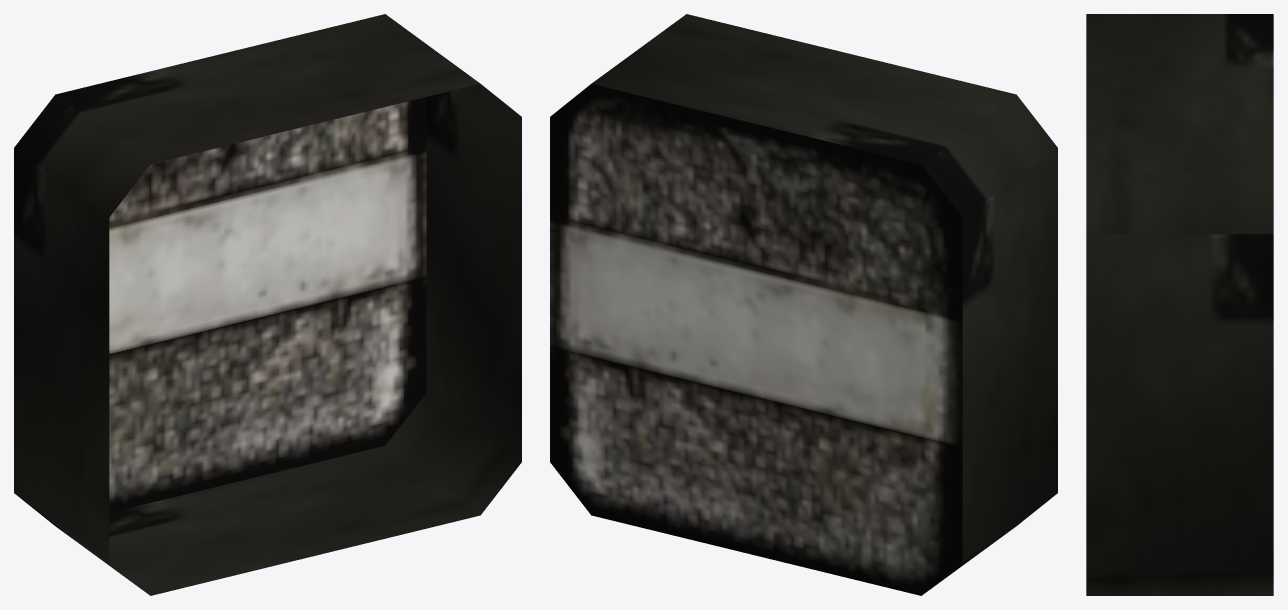
The model's file is MCD Side Button.obj.
The picture shows the model from 3 angles, left to right: view 1: azimuth 30°, elevation 25°; view 2: azimuth 150°, elevation 25°; view 3: azimuth 270°, elevation 25°; orthographic projection.
Visible parts, largest first — view 1: MCD_SideButt; view 2: MCD_SideButt; view 3: MCD_SideButt.
Boxes of the visible parts, x1,y1,x2,y2 form: MCD_SideButt: [14, 14, 521, 595]; MCD_SideButt: [550, 14, 1057, 595]; MCD_SideButt: [1086, 14, 1273, 595].
Size of the model in its own units: 6.25 by 6.25 by 2.5.
